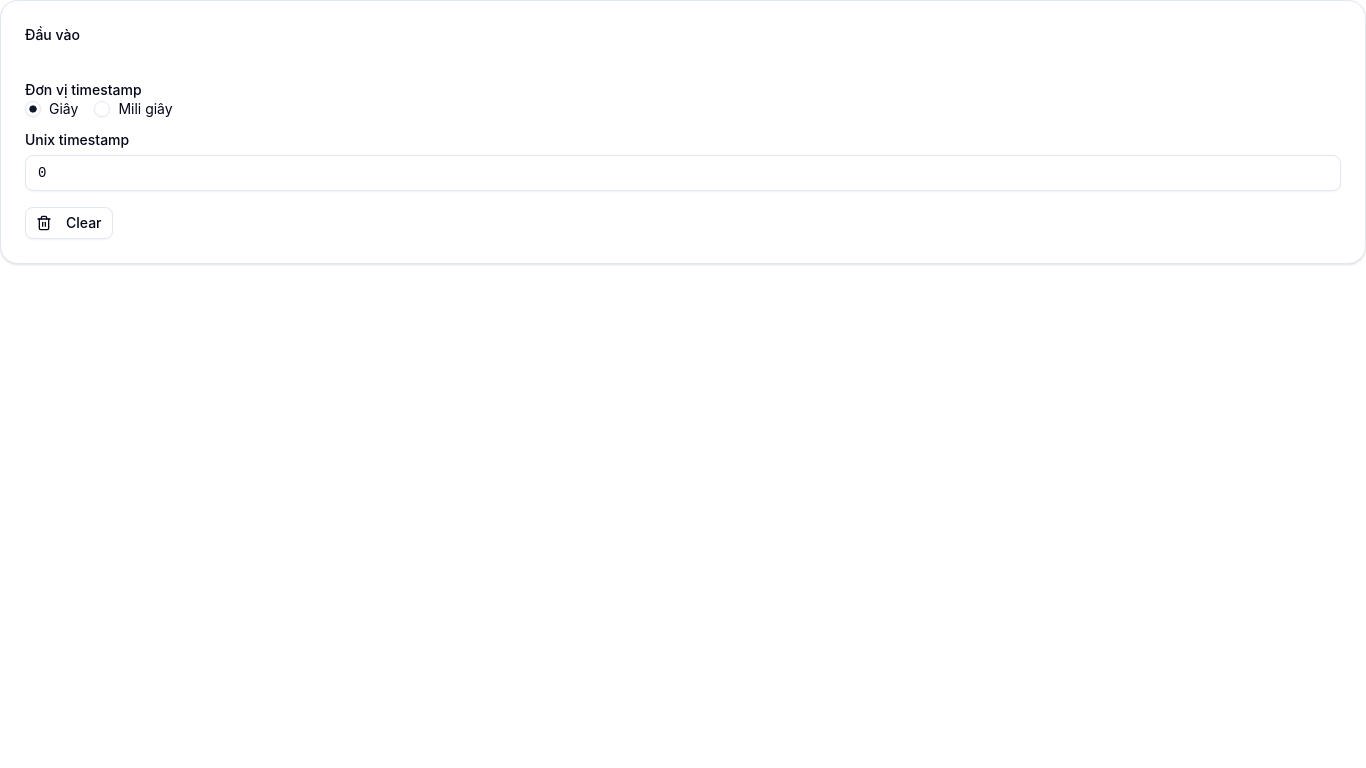
Test: InputPanel › asks for confirmation before clearing, and only clears on confirm
This screenshot has width=1366, height=768.
Click the button "Clear": x=69, y=223 left=25, top=207, right=112, bottom=239
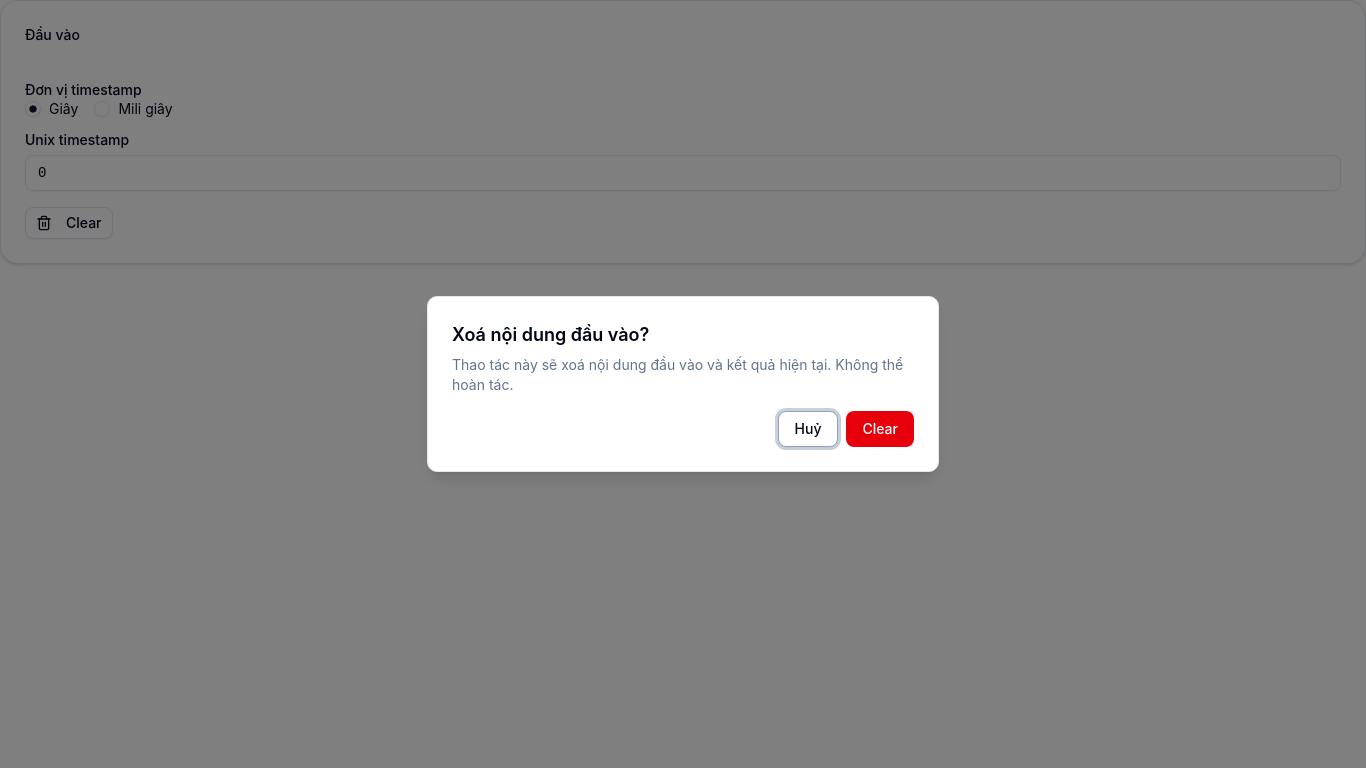
Result: the heading "Xoá nội dung đầu vào?" is shown at left=452, top=321, right=649, bottom=349
Click the button "Huỷ": x=808, y=429 left=778, top=411, right=838, bottom=447
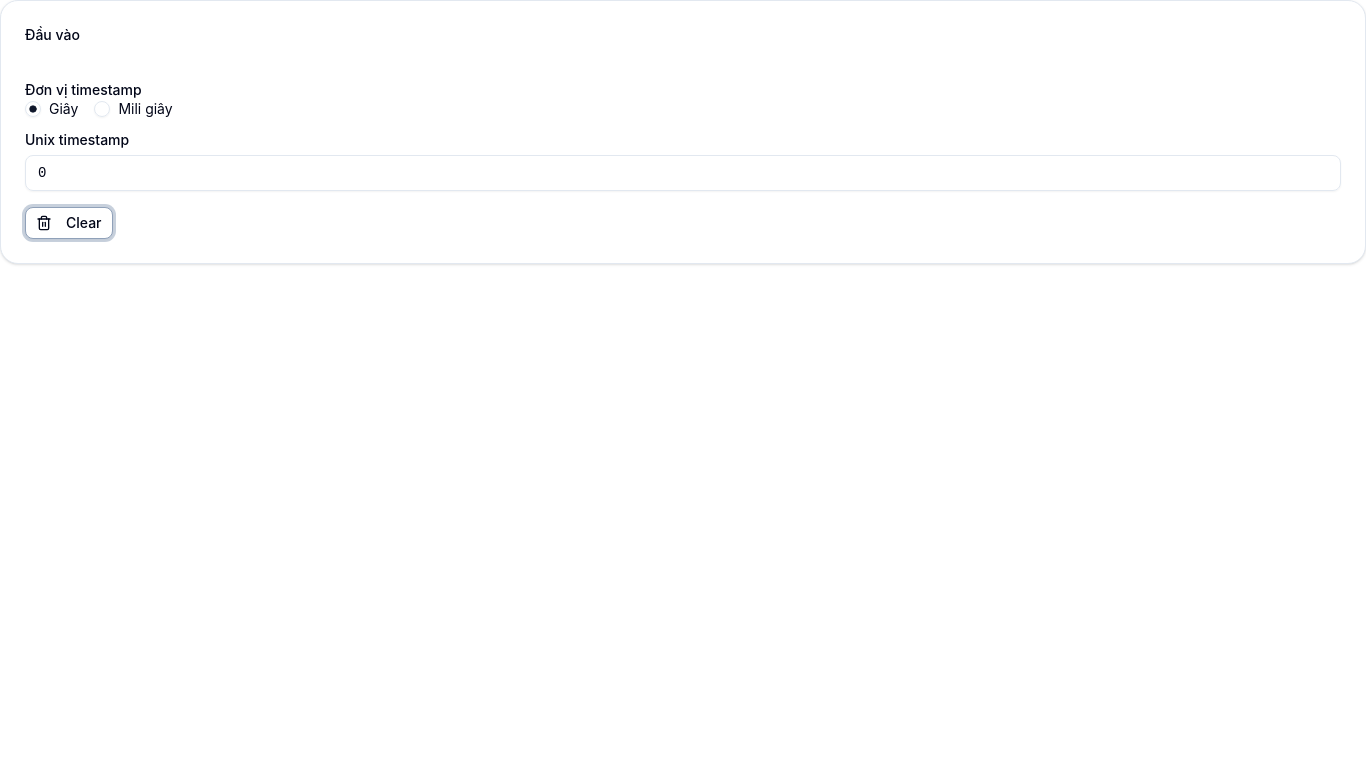
Result: the heading "Xoá nội dung đầu vào?" is gone
